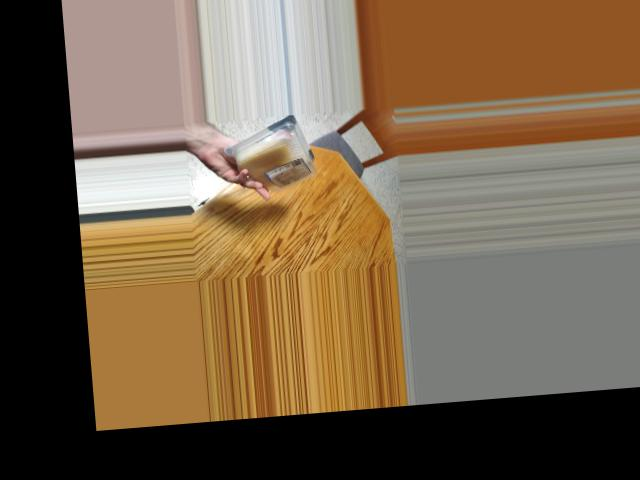cheese: (232, 119, 317, 192)
